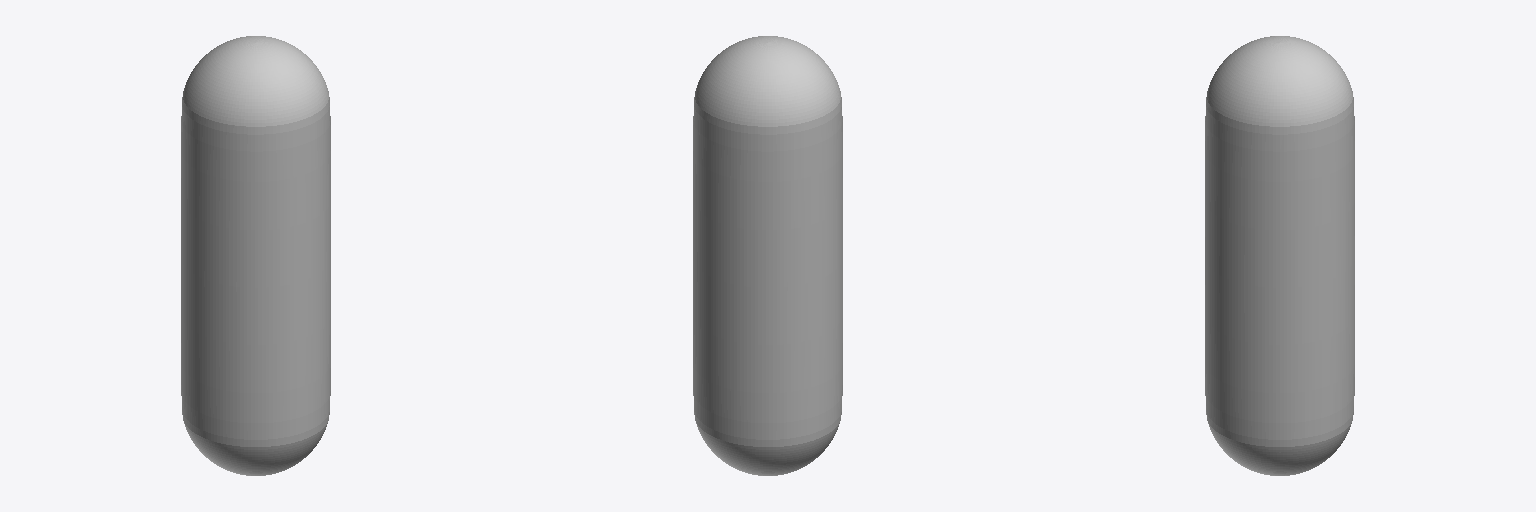
The model's file is android_arm.obj.
The picture shows the model from 3 angles: view 1: azimuth 30°, elevation 25°; view 2: azimuth 150°, elevation 25°; view 3: azimuth 270°, elevation 25°; orthographic projection.
Visible parts, largest first — view 1: ruka_prava_Sphere.005; view 2: ruka_prava_Sphere.005; view 3: ruka_prava_Sphere.005.
Part boxes in pixels (bbox=[...]): ruka_prava_Sphere.005: bbox=[181, 36, 330, 475]; ruka_prava_Sphere.005: bbox=[693, 36, 842, 475]; ruka_prava_Sphere.005: bbox=[1205, 36, 1354, 475].
Size of the model in its own units: 0.4416 by 1.38 by 0.4416.